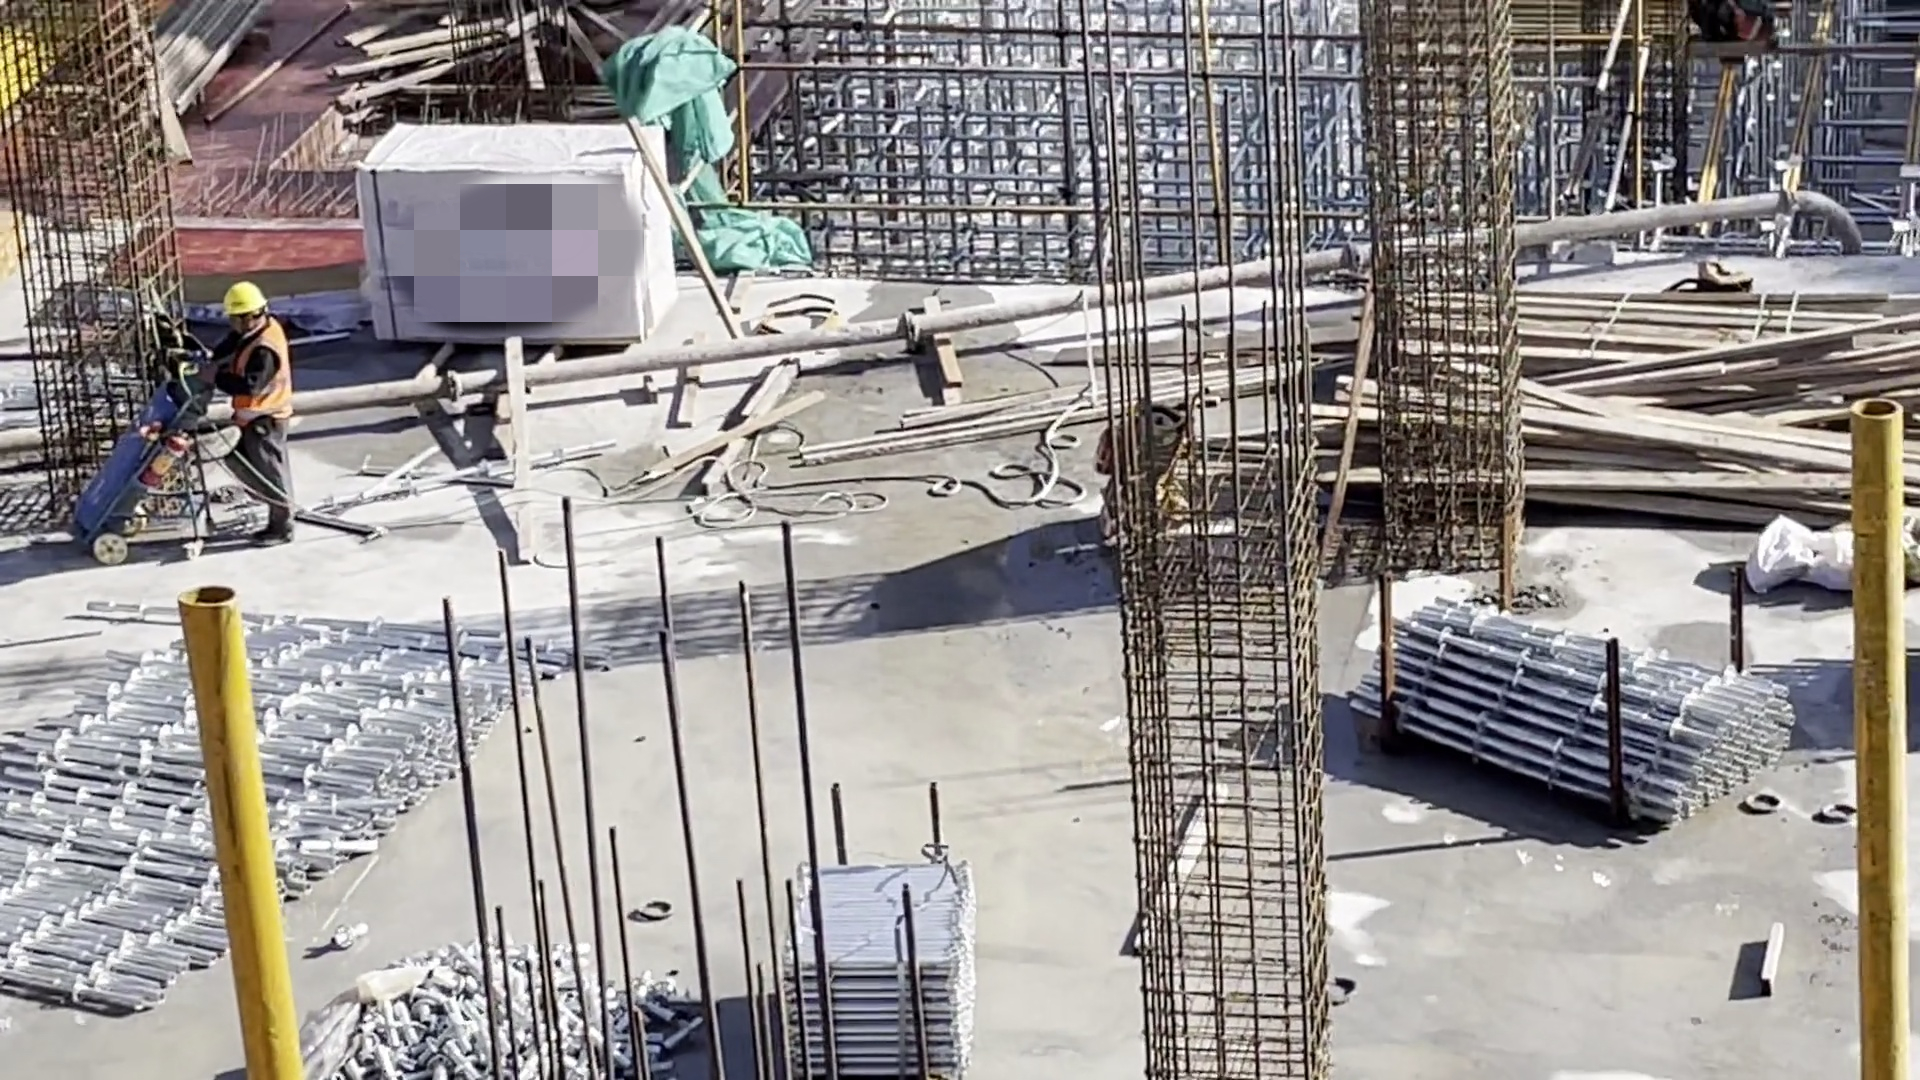helmet: (217, 280, 266, 321)
person: (215, 280, 303, 549)
scaffold: (2, 596, 614, 1030), (1348, 589, 1798, 829), (783, 857, 978, 1080)
vest: (229, 323, 291, 427)
wood: (1320, 260, 1920, 546)
